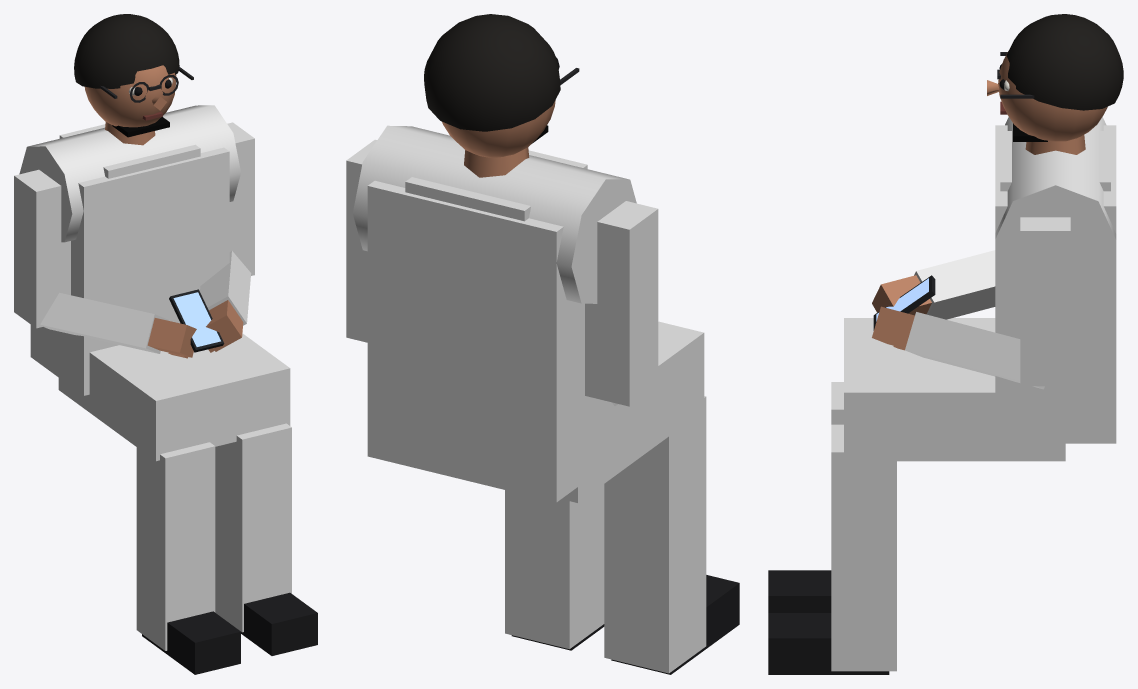
File: NPC_dad_seated.fbx
The picture shows the model from 3 angles, left to right: view 1: azimuth 30°, elevation 25°; view 2: azimuth 150°, elevation 25°; view 3: azimuth 270°, elevation 25°; orthographic projection. The views are drawn at different scales.
Parts seen in each view (by area): view 1: Body_Cloth_Shirt.003, Body_Cloth_Pants.003, Body_Shoe.003, Head_Hair.003, Head_Skin.003, Body_Skin.003, Prop_Phone_PhoneScreen.001, Prop_Phone_PhoneBody.001, Head_GlassesFrame.001, Head_JawShade.003; view 2: Body_Cloth_Shirt.003, Body_Cloth_Pants.003, Head_Hair.003, Head_Skin.003, Body_Shoe.003, Body_Skin.003; view 3: Body_Cloth_Shirt.003, Body_Cloth_Pants.003, Head_Hair.003, Body_Shoe.003, Head_Skin.003, Body_Skin.003.
Part boxes in pixels (box(x1,y1,x2,y2)): Body_Cloth_Shirt.003: box(14, 105, 254, 395); Body_Cloth_Pants.003: box(58, 333, 291, 650); Body_Shoe.003: box(142, 592, 317, 674); Head_Hair.003: box(74, 14, 179, 88); Head_Skin.003: box(84, 65, 176, 127); Body_Skin.003: box(105, 122, 243, 358); Prop_Phone_PhoneScreen.001: box(173, 292, 220, 346); Prop_Phone_PhoneBody.001: box(169, 289, 224, 352); Head_GlassesFrame.001: box(100, 66, 193, 102); Head_JawShade.003: box(112, 116, 169, 137); Body_Cloth_Shirt.003: box(346, 125, 658, 502); Body_Cloth_Pants.003: box(505, 321, 706, 673); Head_Hair.003: box(424, 14, 560, 131); Head_Skin.003: box(442, 100, 555, 157); Body_Shoe.003: box(511, 575, 739, 674); Body_Skin.003: box(464, 147, 529, 177); Body_Cloth_Shirt.003: box(905, 117, 1116, 443); Body_Cloth_Pants.003: box(831, 318, 1065, 671); Head_Hair.003: box(1006, 14, 1123, 110); Body_Shoe.003: box(768, 570, 889, 674); Head_Skin.003: box(987, 51, 1107, 141); Body_Skin.003: box(872, 135, 1085, 350).
Bounding box in the file's own units: 0.57 × 1.36 × 0.7048.
